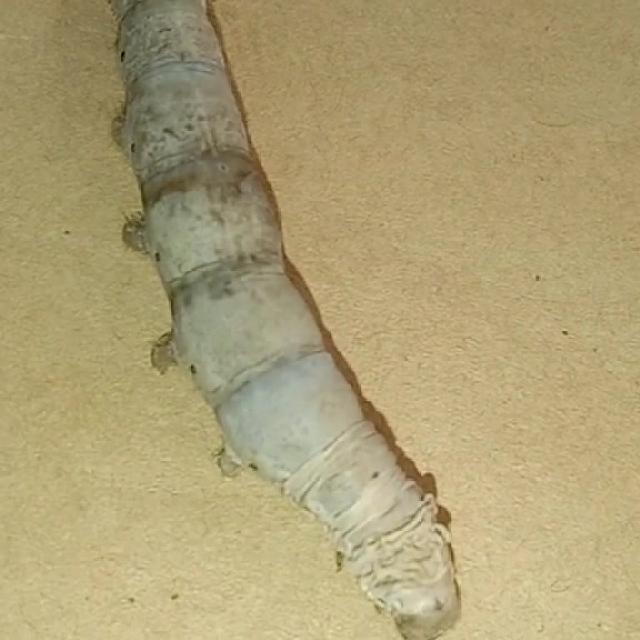Grasserie: (95, 0, 480, 640)
